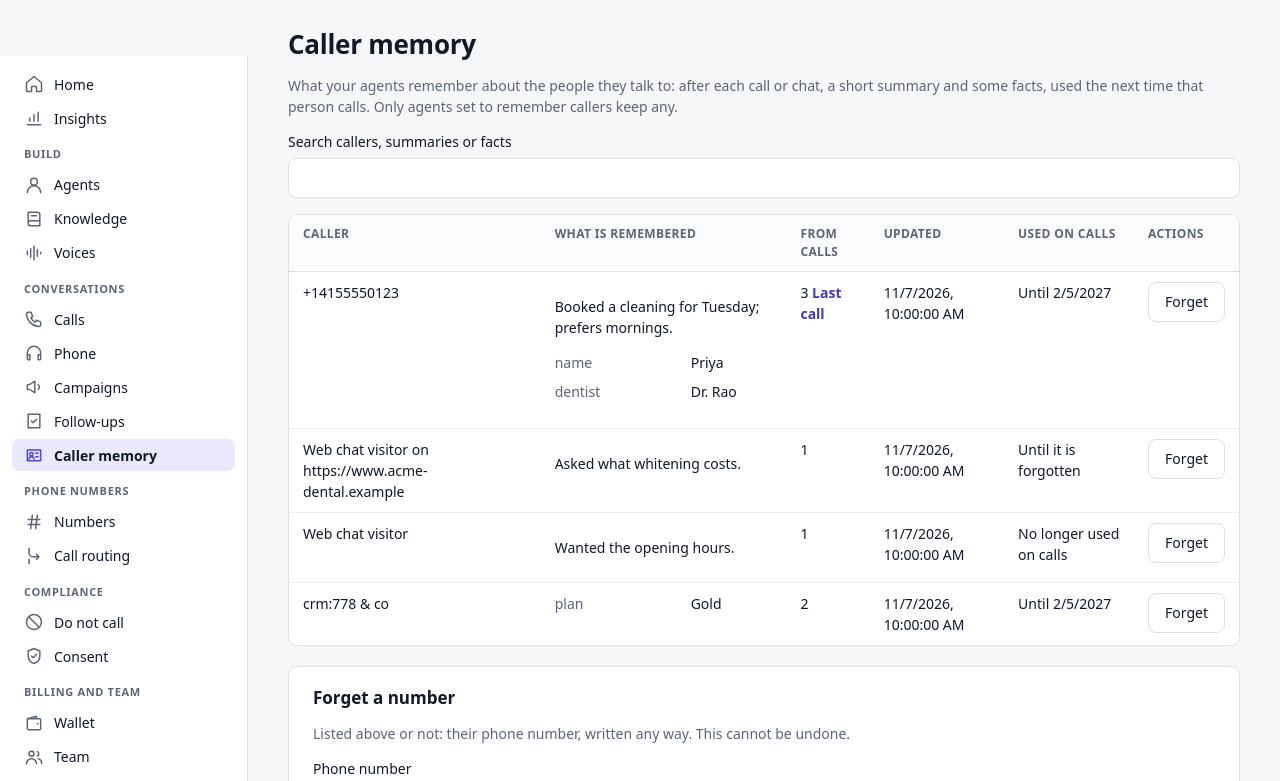
it: caller memory › keeps the row and says why when forgetting it is refused
Click the button "Forget" in the row of "+14155550123": (1186, 302) [1148,282,1225,322]
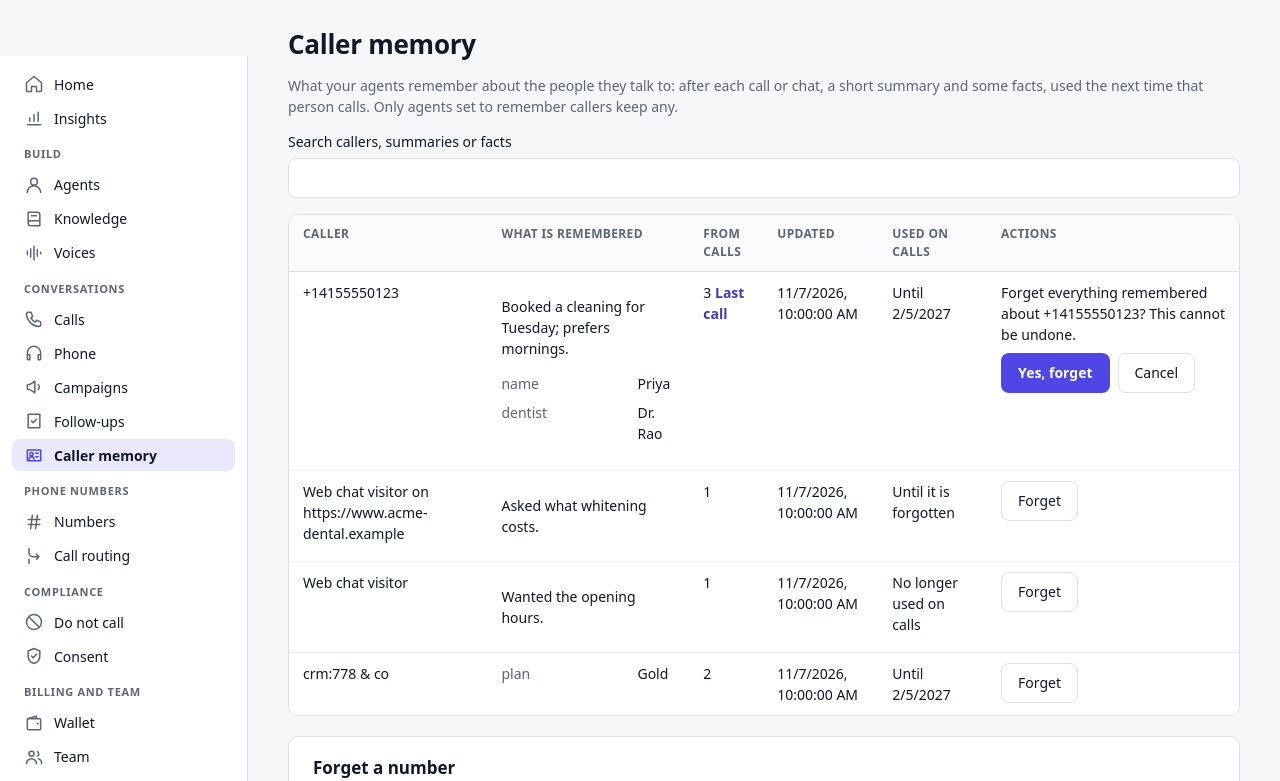
Click the button "Yes, forget": (1055, 372) [1001,352,1110,392]
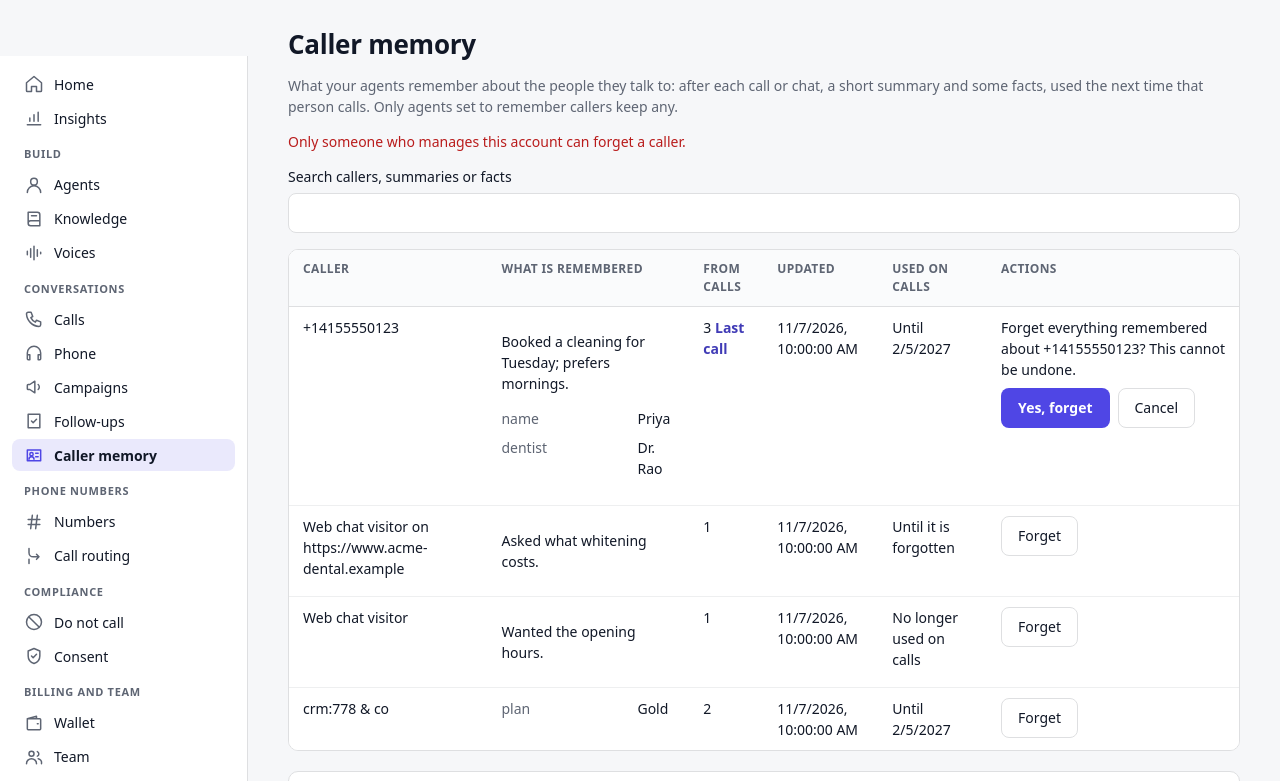
Now the message reads "Only someone who manages this account can forget a caller.", box [288,132,686,150]
